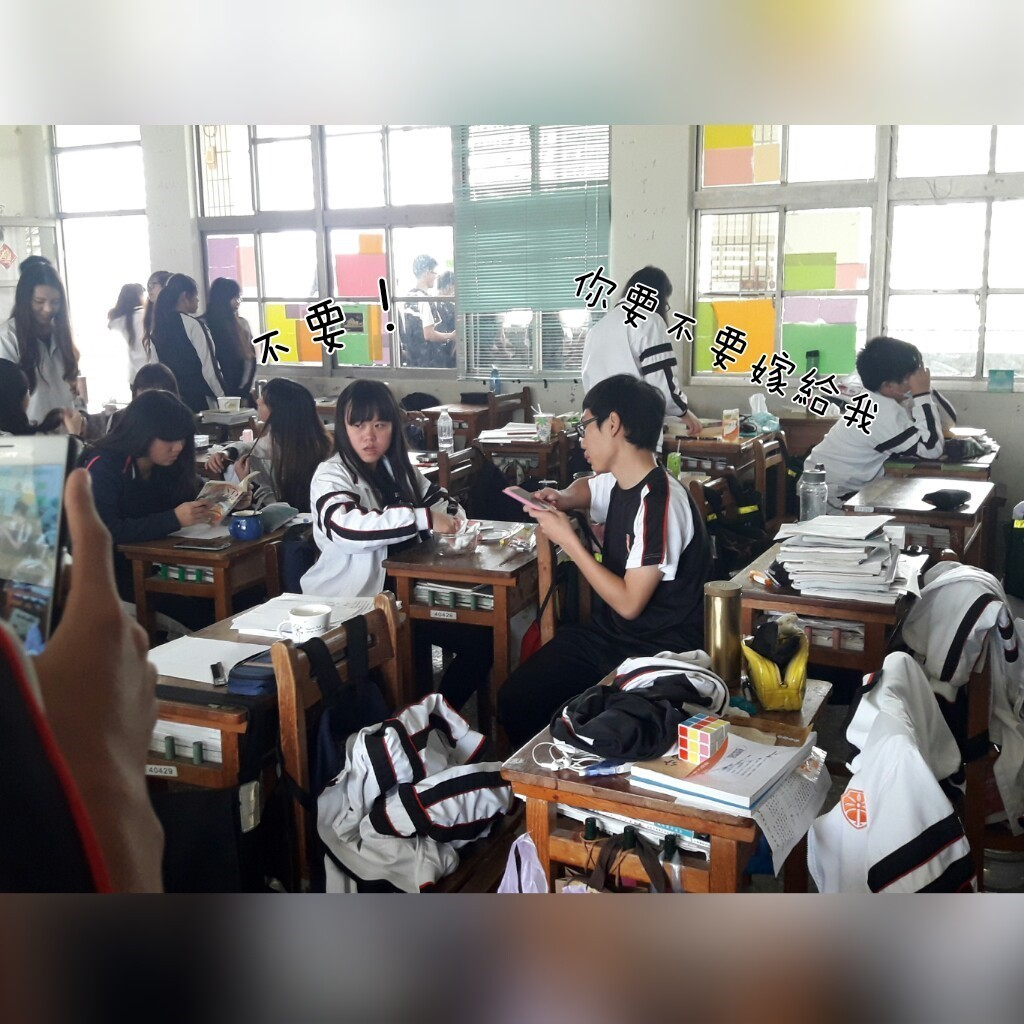people: (554, 372, 706, 672), (303, 372, 425, 604), (835, 328, 938, 493), (251, 373, 359, 514), (7, 264, 91, 441), (106, 401, 194, 560), (598, 259, 683, 420), (153, 273, 219, 410), (212, 273, 265, 397), (106, 273, 161, 383), (401, 251, 440, 368), (443, 264, 470, 383)
